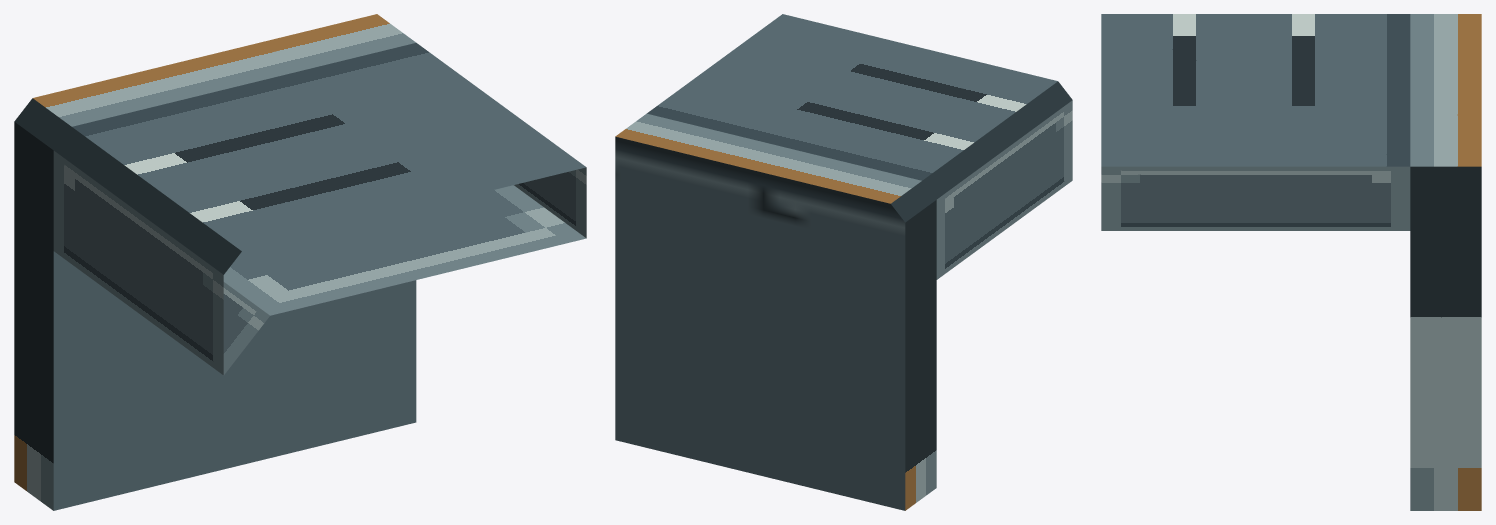
Rendered from casing_d7_front_x-1_y3.obj.
3 renders of one model, left to right at view 1: azimuth 30°, elevation 25°; view 2: azimuth 150°, elevation 25°; view 3: azimuth 270°, elevation 25°, orthographic. The views are drawn at different scales.
Visible parts, largest first — view 1: d7_front_x-1_y3; view 2: d7_front_x-1_y3; view 3: d7_front_x-1_y3.
Part boxes in pixels (<box>): d7_front_x-1_y3: <box>14,14,586,510</box>; d7_front_x-1_y3: <box>615,14,1072,510</box>; d7_front_x-1_y3: <box>1101,14,1481,510</box>.
Size of the model in its own units: 1 by 1 by 1.
